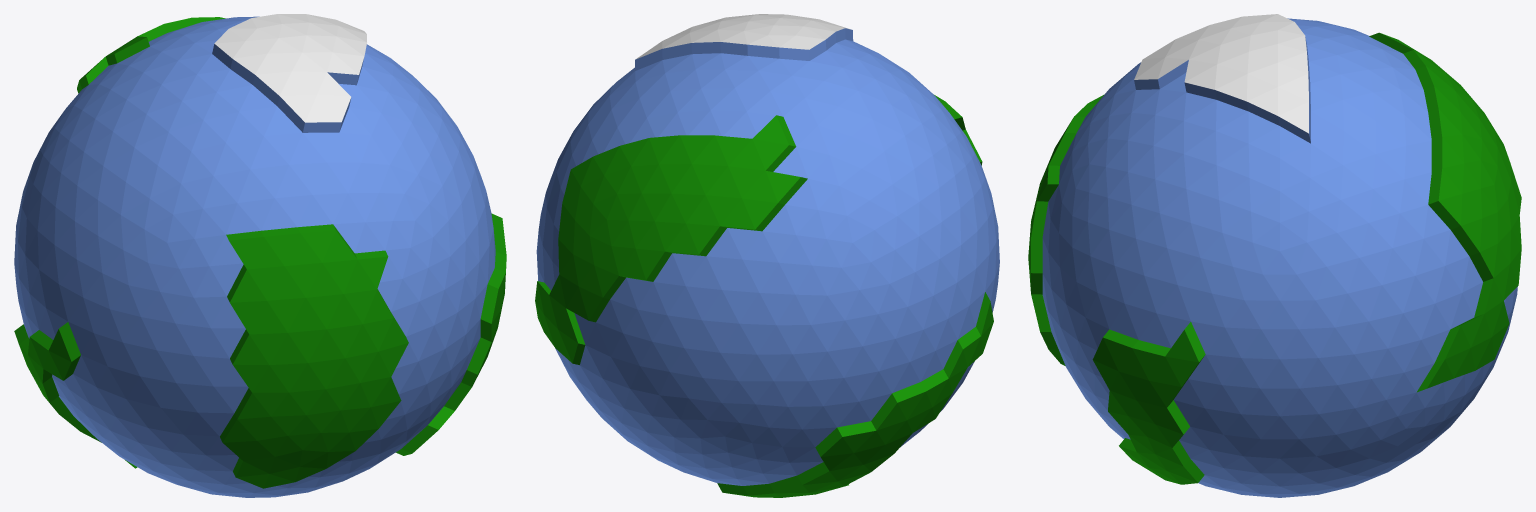
File: earth.glb
The picture shows the model from 3 angles, left to right: view 1: azimuth 30°, elevation 25°; view 2: azimuth 150°, elevation 25°; view 3: azimuth 270°, elevation 25°; orthographic projection. The views are drawn at different scales.
Visible parts, largest first — view 1: Icosphere; view 2: Icosphere; view 3: Icosphere.
Part boxes in pixels (x1,y1,x2,y2): Icosphere: (14, 14, 506, 497); Icosphere: (535, 14, 999, 497); Icosphere: (1028, 14, 1521, 497).
Size of the model in its own units: 2.02 by 2.05 by 2.05.
